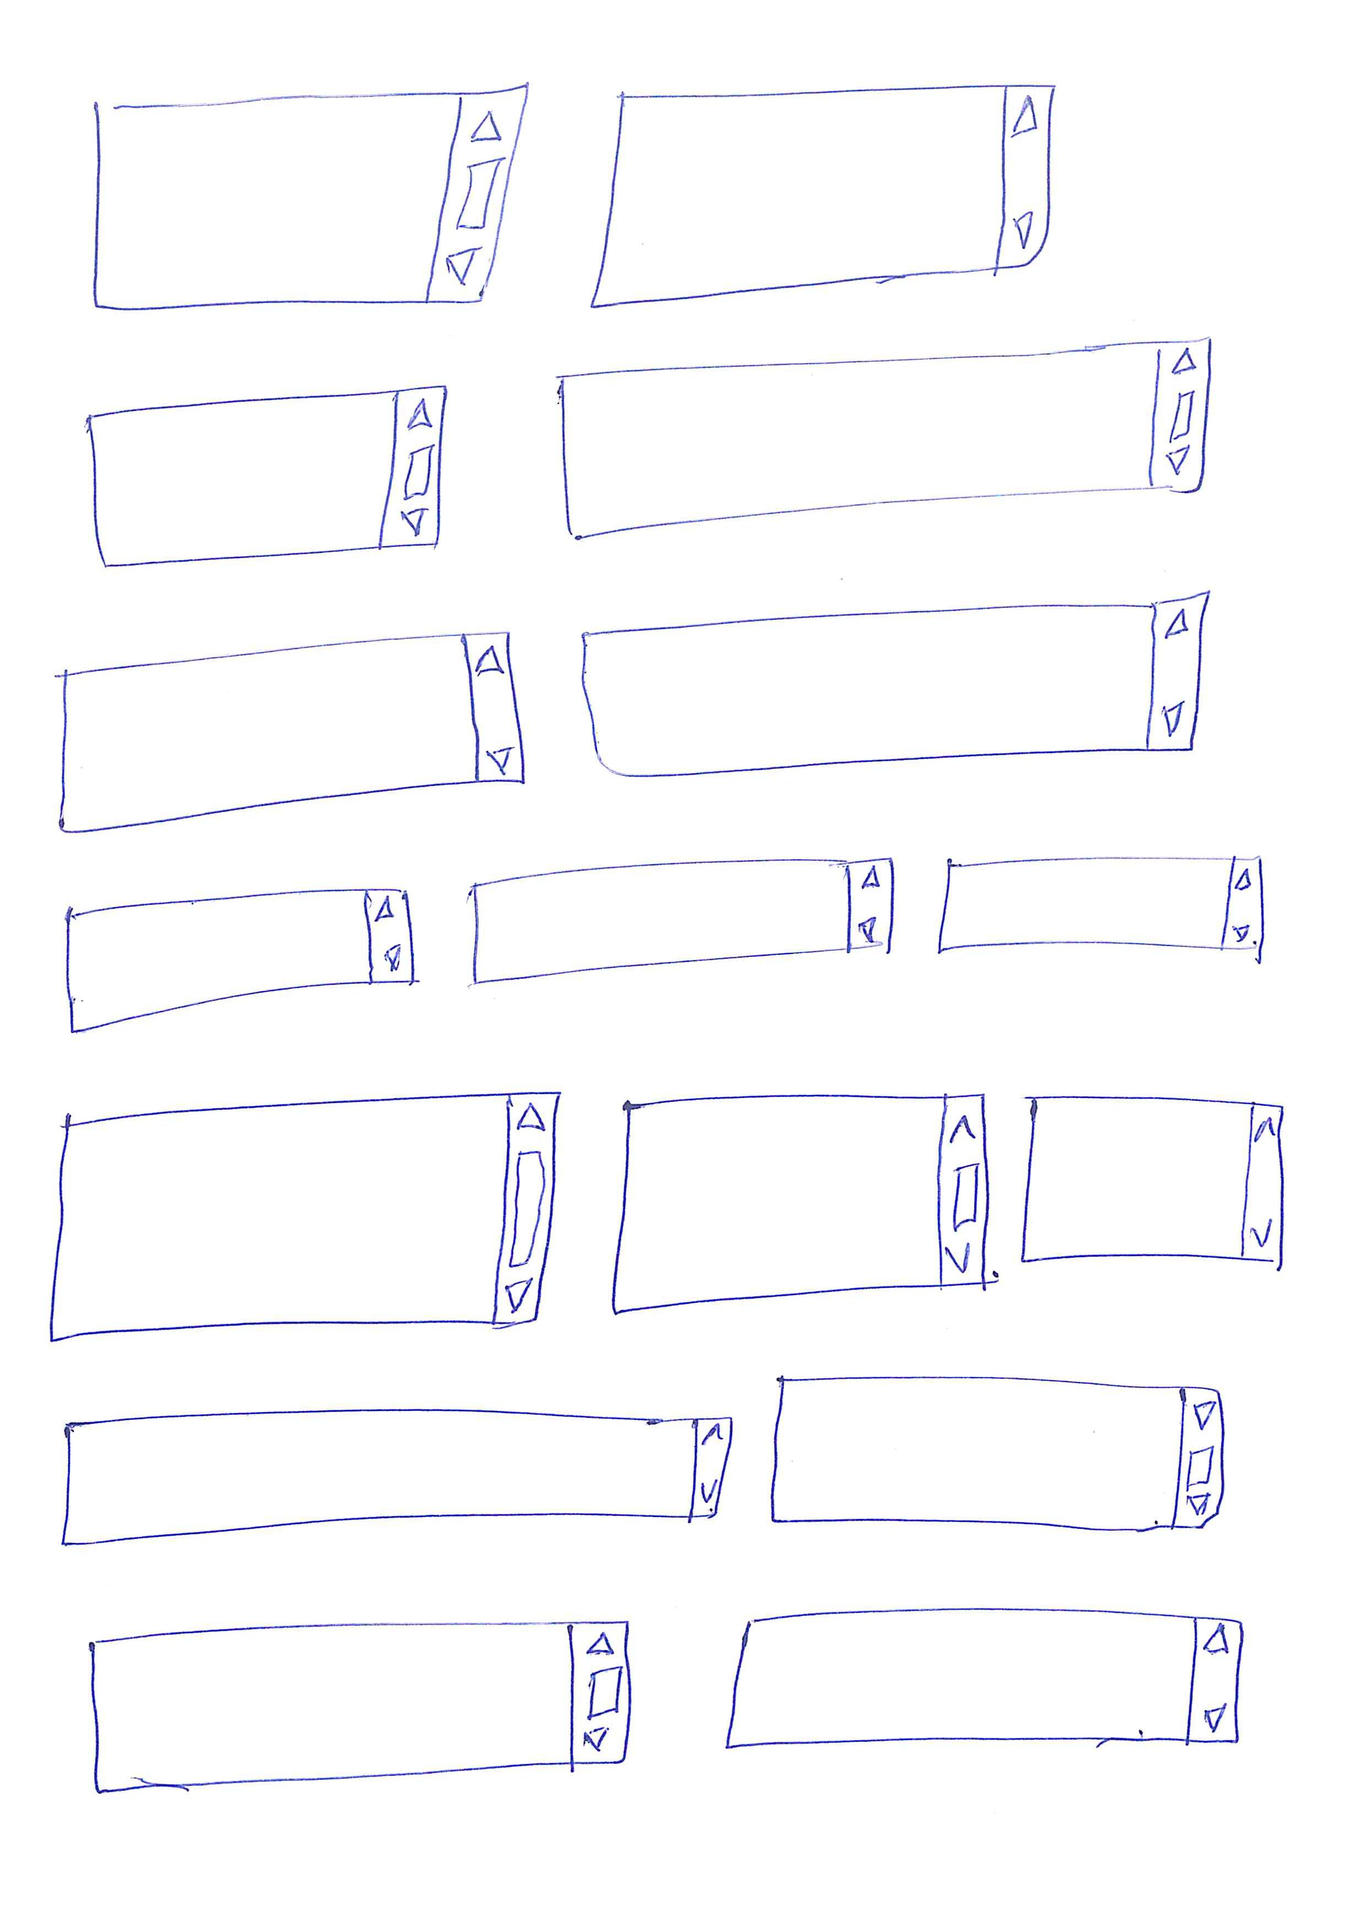Textarea: (551, 322, 1218, 544), (44, 1088, 562, 1347), (574, 586, 1218, 782), (585, 75, 1059, 315), (53, 622, 534, 844), (89, 1612, 636, 1802), (92, 78, 540, 309), (606, 1091, 998, 1320), (761, 1377, 1236, 1532), (80, 381, 455, 574), (466, 853, 897, 994), (59, 878, 421, 1044), (1016, 1088, 1292, 1267)
